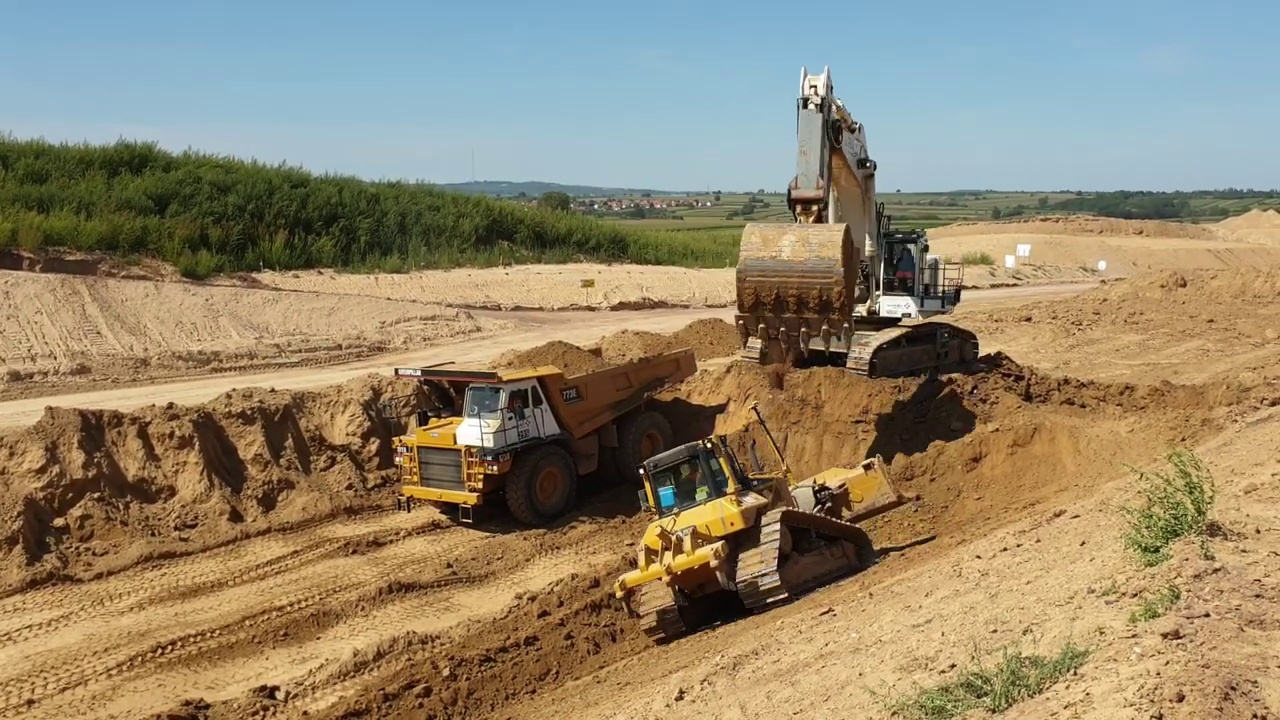bulldozer: (614, 396, 928, 650)
excavator: (732, 64, 985, 383)
truck: (388, 347, 702, 528)
